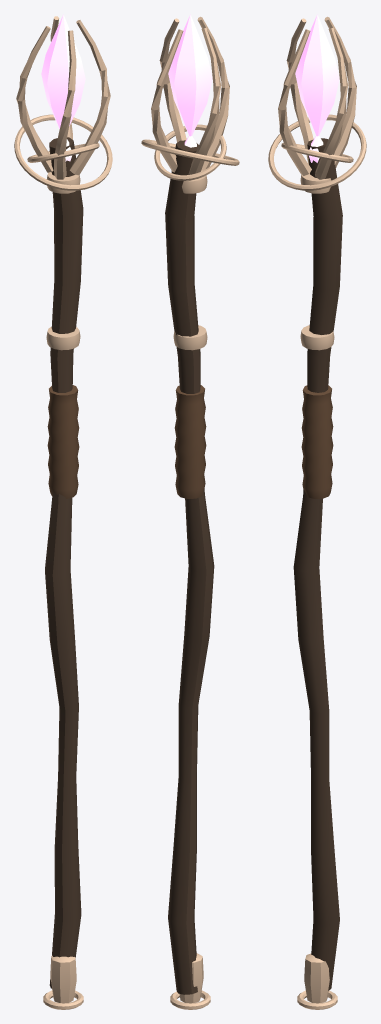
File: asc_timeweaver_weapon.glb
The picture shows the model from 3 angles, left to right: view 1: azimuth 30°, elevation 25°; view 2: azimuth 150°, elevation 25°; view 3: azimuth 330°, elevation 25°; orthographic projection.
Visible parts, largest first — view 1: asc_timeweaver_weapon; view 2: asc_timeweaver_weapon; view 3: asc_timeweaver_weapon.
Boxes of the visible parts, x1,y1,x2,y2 form: asc_timeweaver_weapon: [14, 14, 112, 1009]; asc_timeweaver_weapon: [141, 14, 239, 1009]; asc_timeweaver_weapon: [268, 14, 366, 1009].
Size of the model in its own units: 0.1742 by 1.9 by 0.1597.
